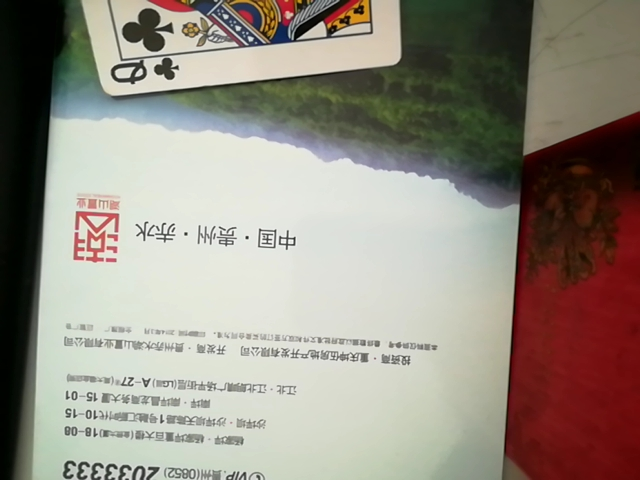mh q: (74, 0, 406, 103)
